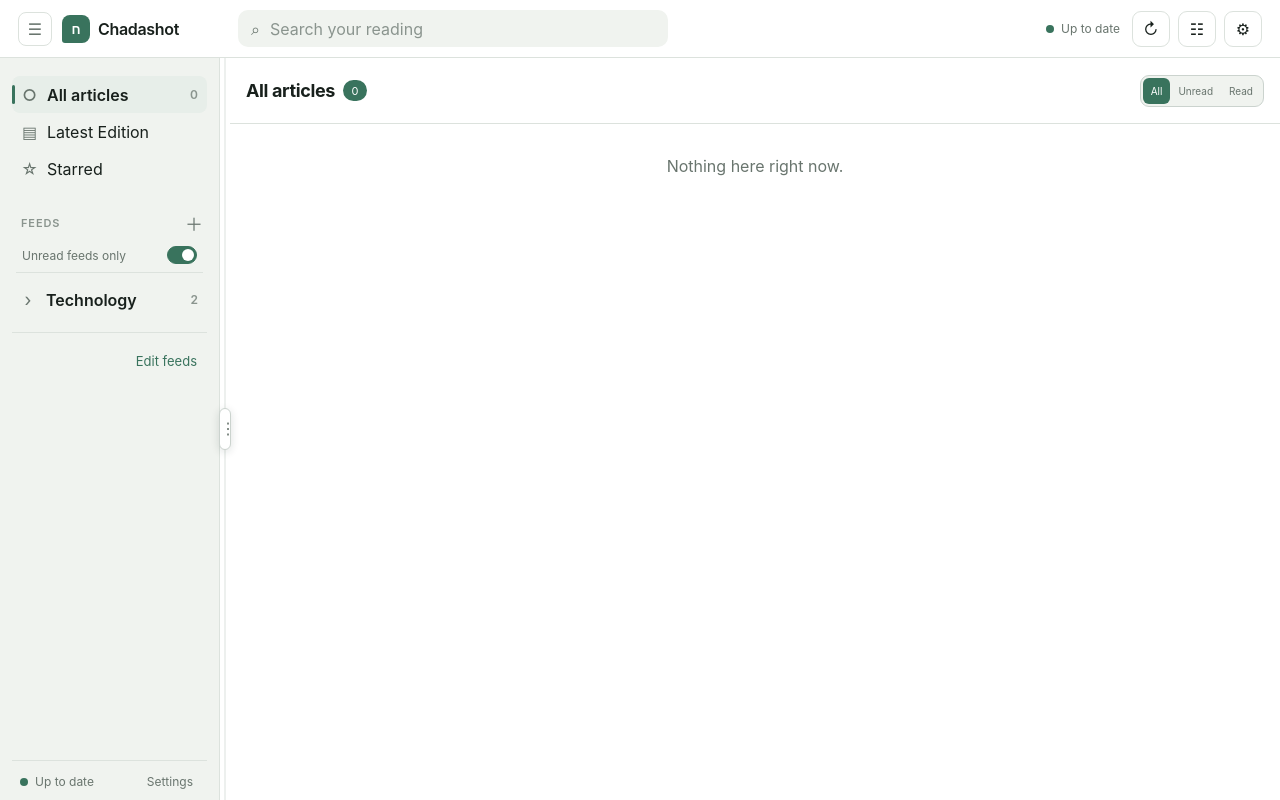
responsive feeds navigation › keeps removal controls in edit mode and includes read feeds (compact: true)
Click the button named "Open feeds panel". click: (35, 28)
box: x1=18 y1=12 x2=52 y2=46
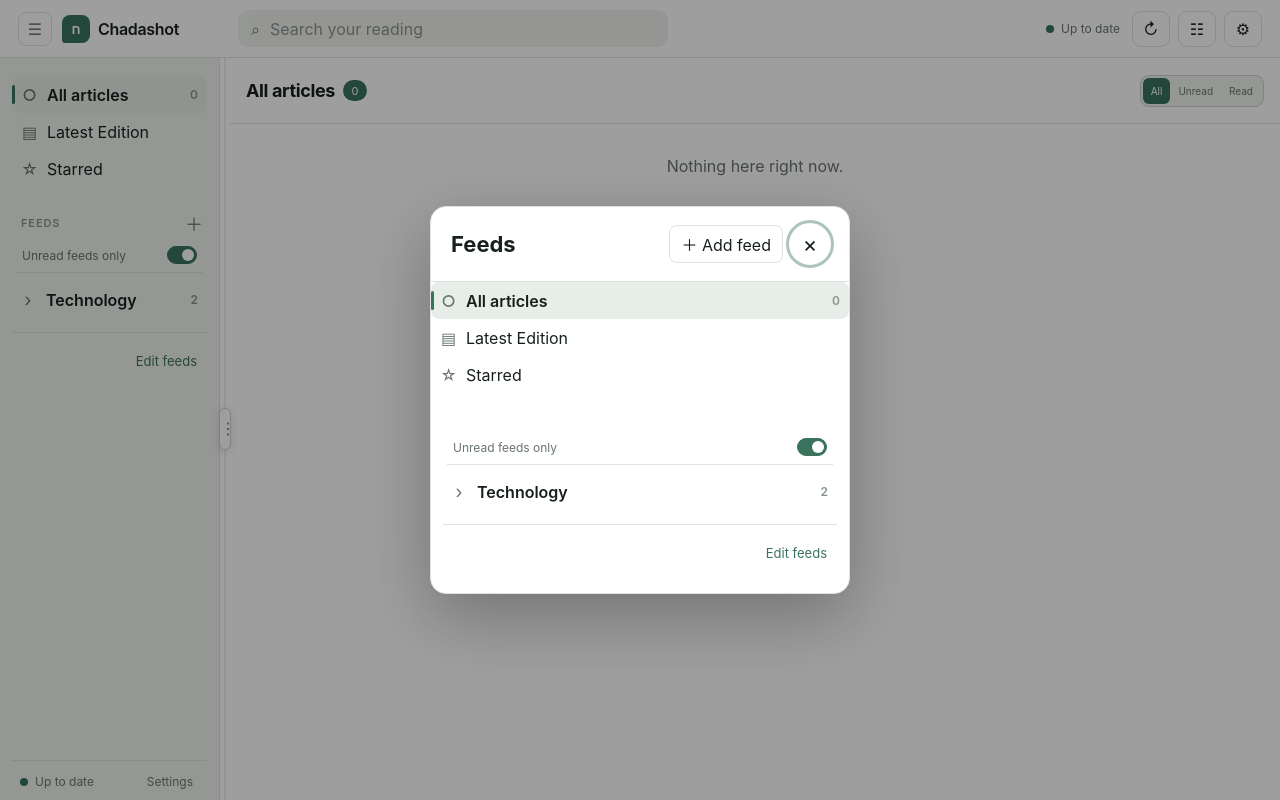
Expected: the button "Remove" is not shown
Now the 2nd switch labelled "Unread feeds only" is checked, box x1=447 y1=431 x2=833 y2=465
Click the button "Edit feeds". click: (796, 553)
box: x1=756 y1=531 x2=837 y2=575
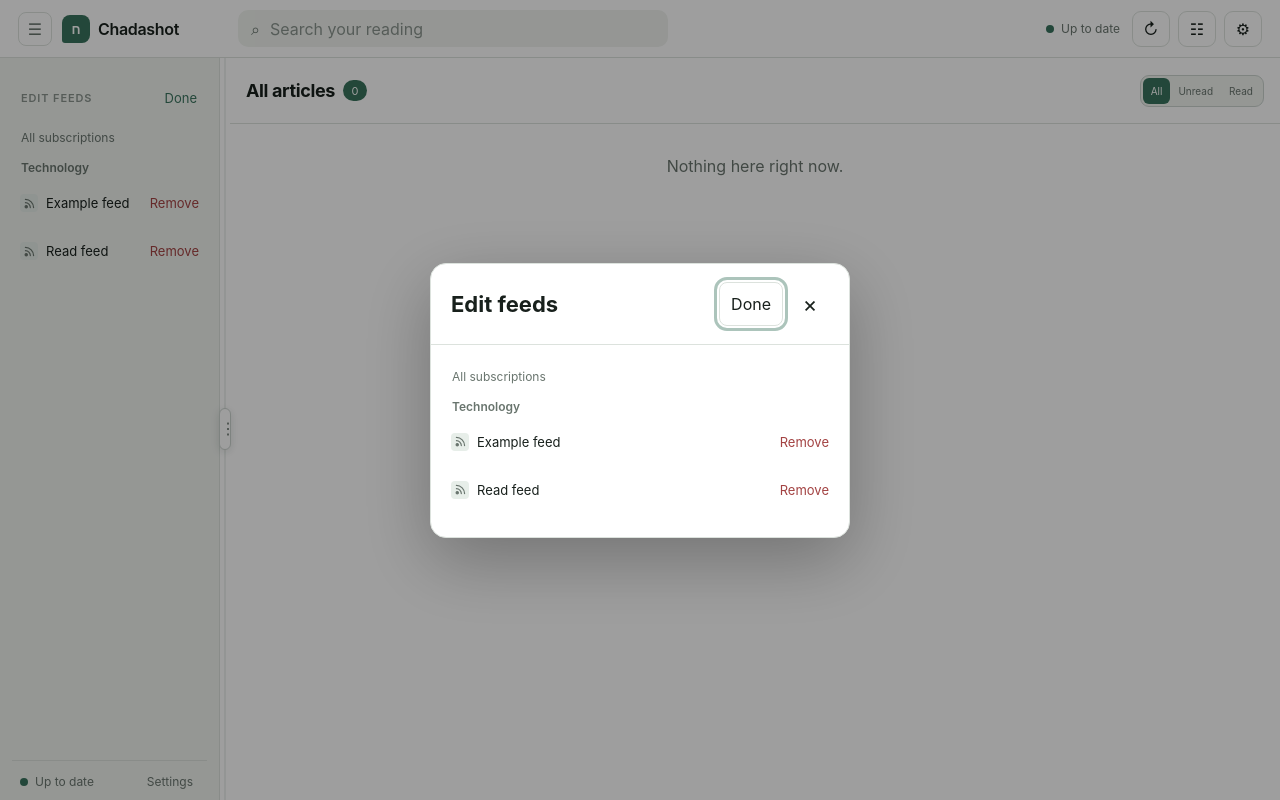
Now the button with aria-label "Remove Read feed" is shown
Now the button "Add feed" is gone
Click the button with aria-label "Remove Read feed". click: (804, 490)
box: x1=772 y1=468 x2=837 y2=512
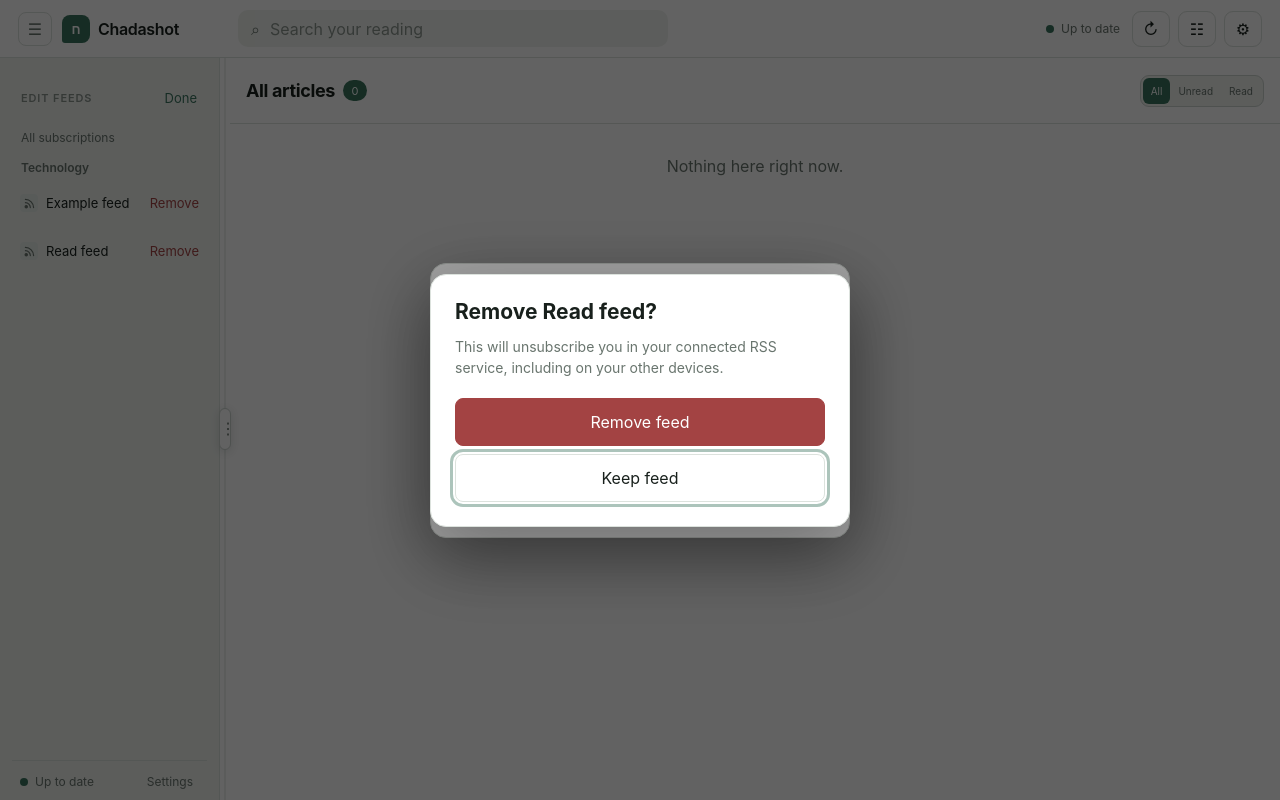
Press Tab in the dialog "Remove Read feed?", box x1=430 y1=274 x2=850 y2=526
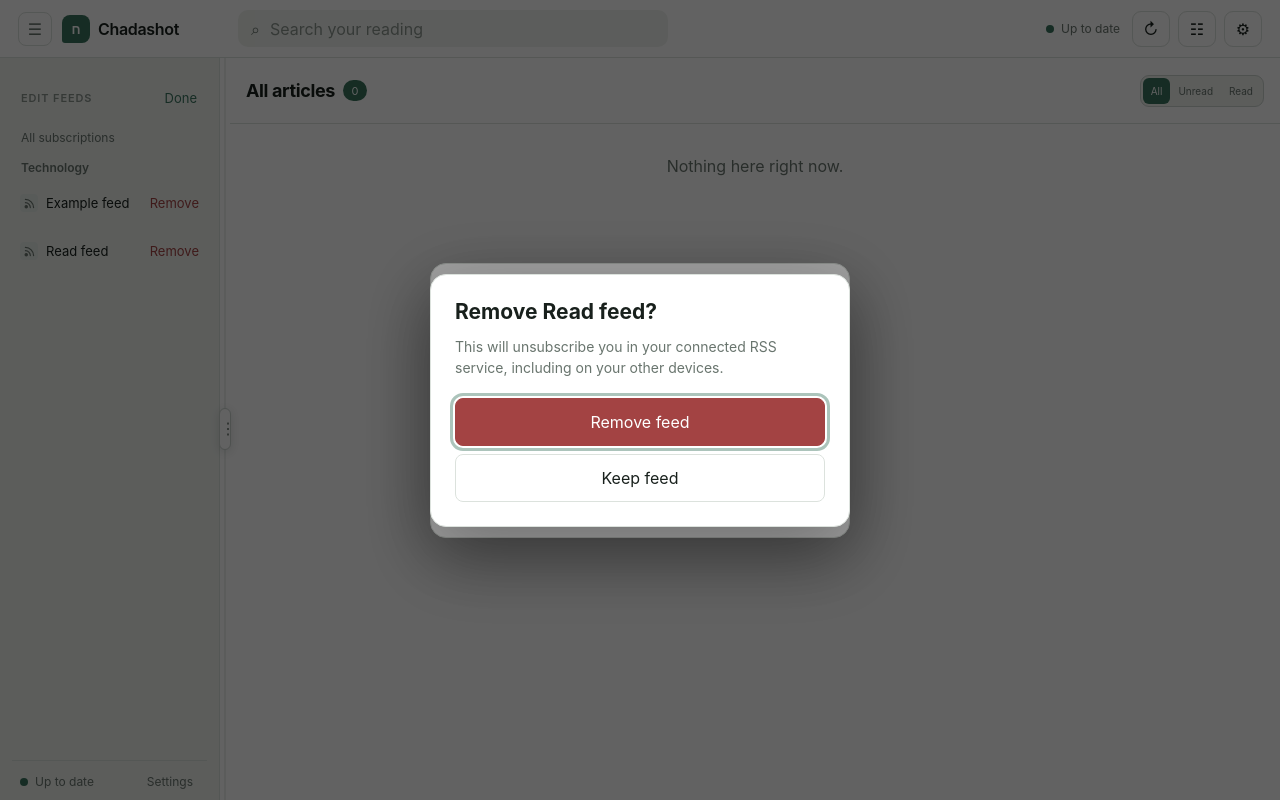
Press Escape in the dialog "Remove Read feed?", box x1=430 y1=274 x2=850 y2=526
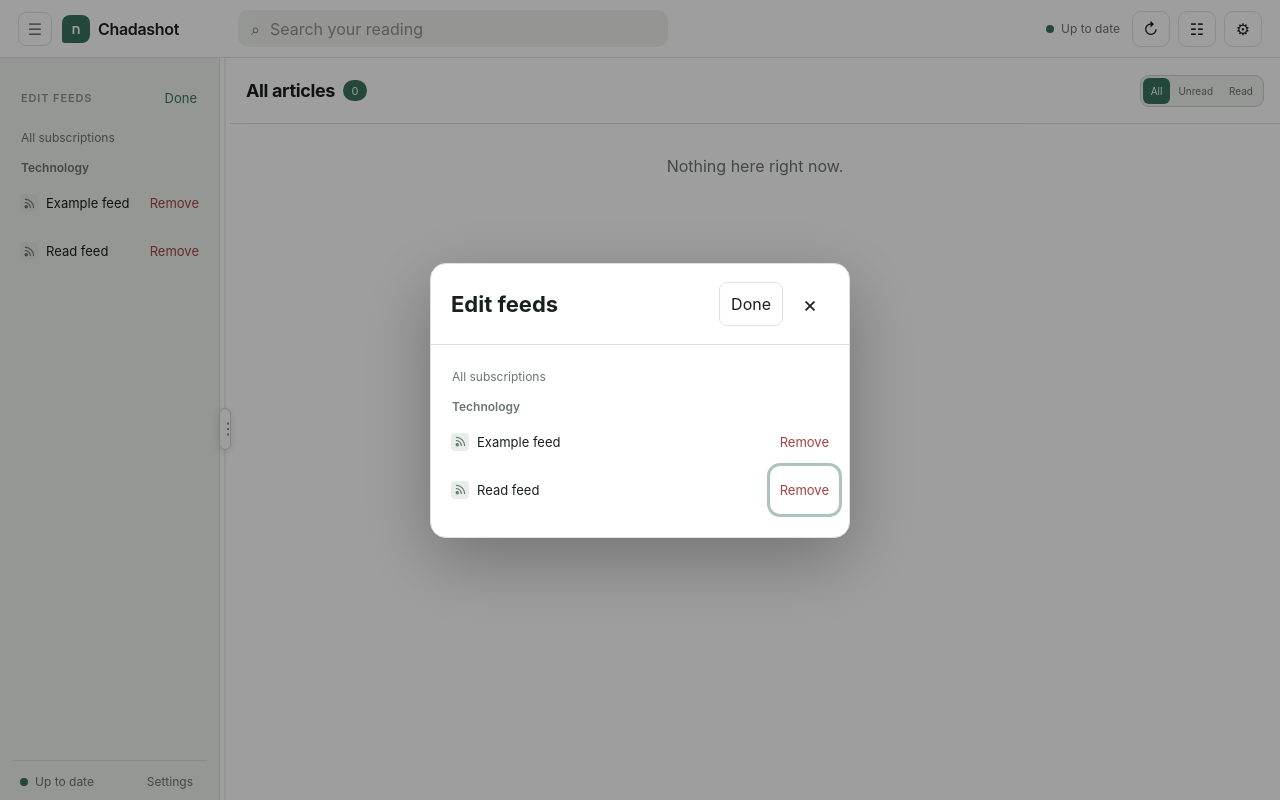
Click the button "Done". click: (751, 304)
box: x1=719 y1=282 x2=783 y2=326
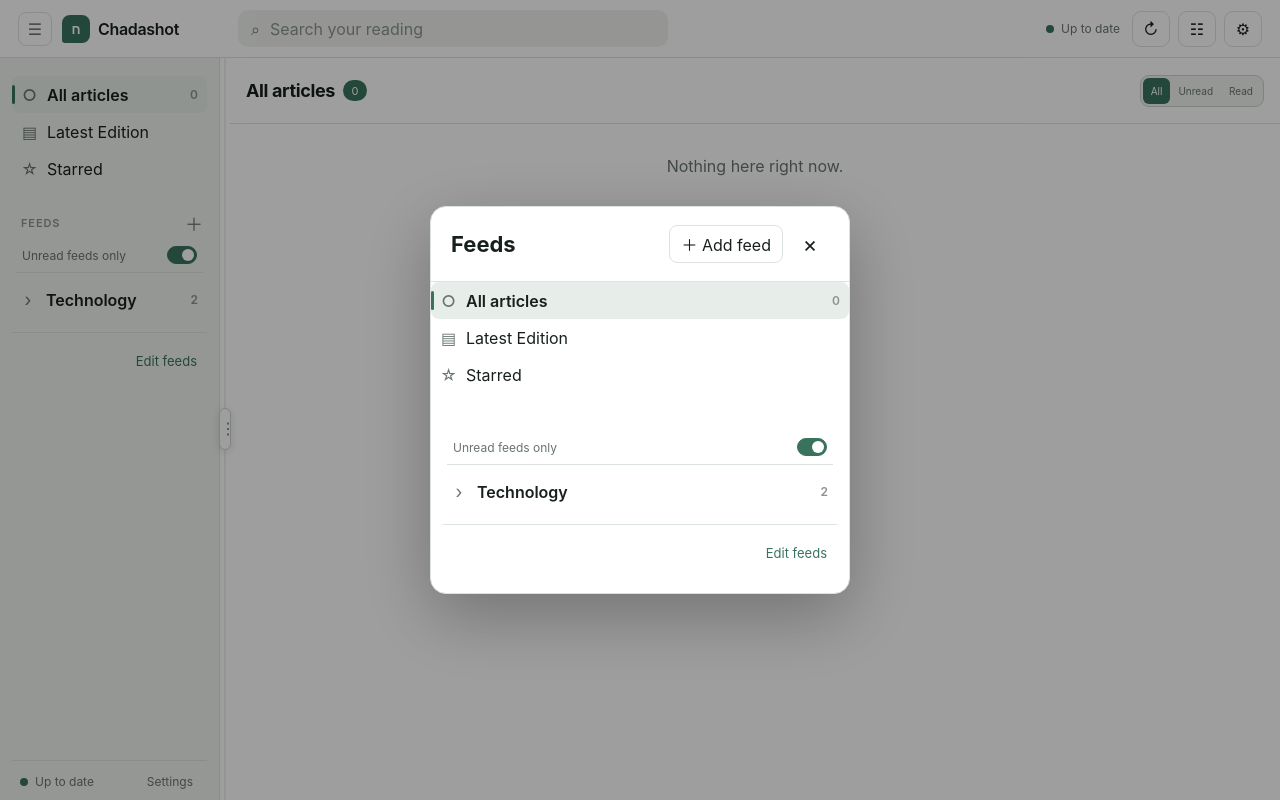
Now the 2nd switch labelled "Unread feeds only" is checked, box x1=447 y1=431 x2=833 y2=465
Now the button "Remove" is gone
